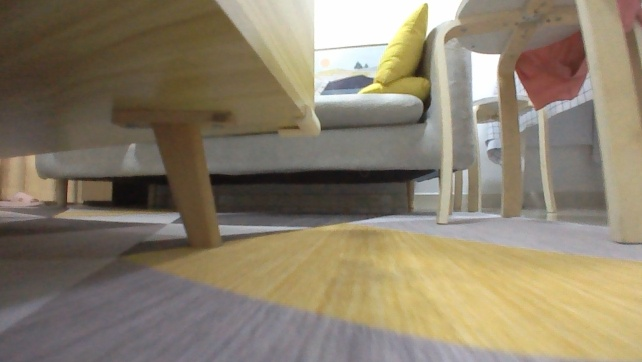blanket: (0, 205, 641, 361)
slipper: (0, 190, 44, 209)
sofa: (32, 0, 480, 216)
